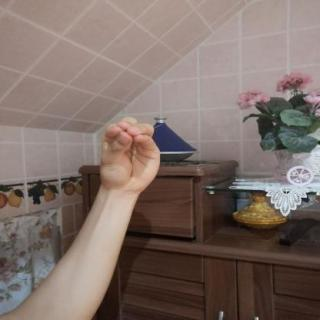HA: (88, 108, 174, 204)
